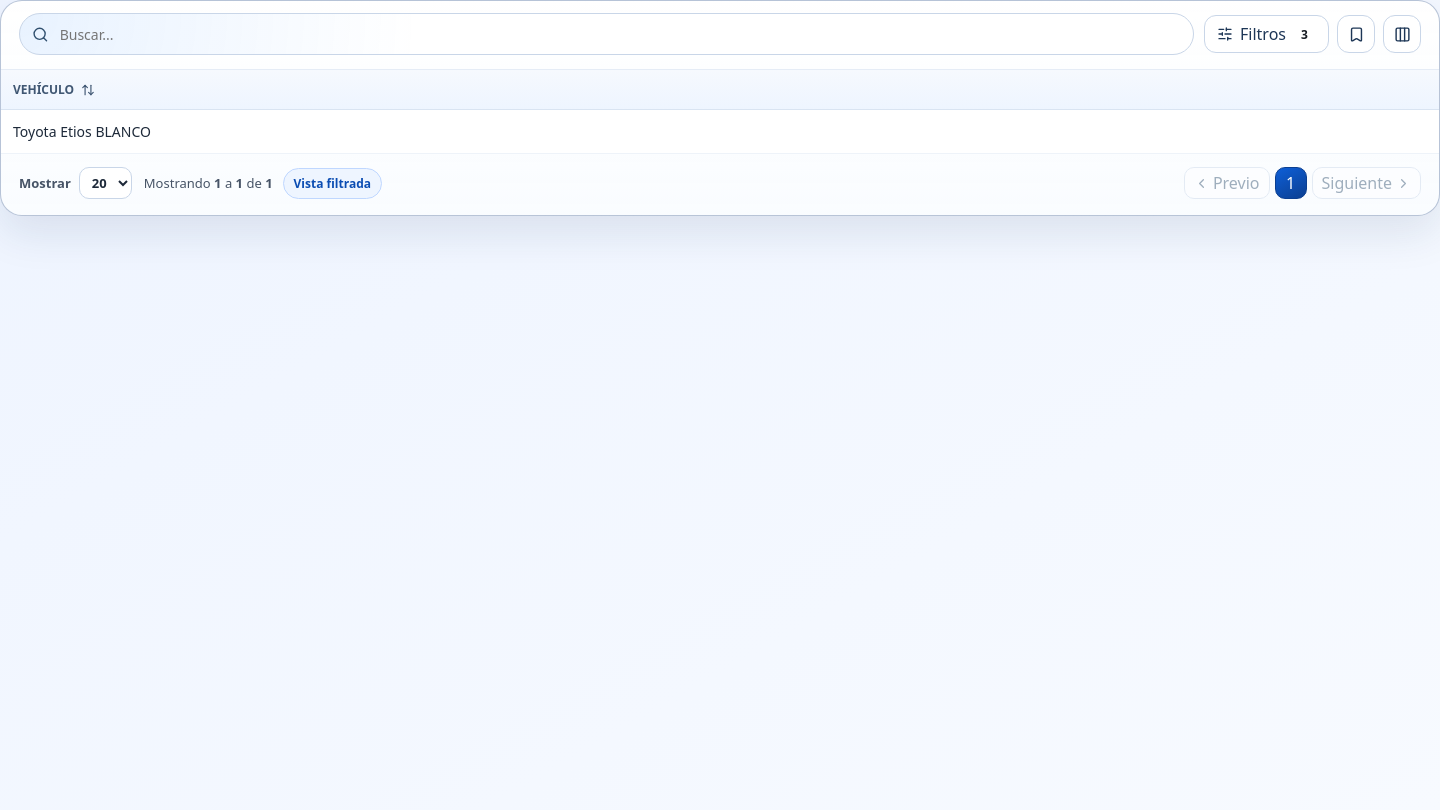
Test: conserva filtros independientes de marca, modelo y color en una sola columna
The width and height of the screenshot is (1440, 810).
Click the button with class "dt-filter-trigger": (1266, 34) [1204,15,1329,53]
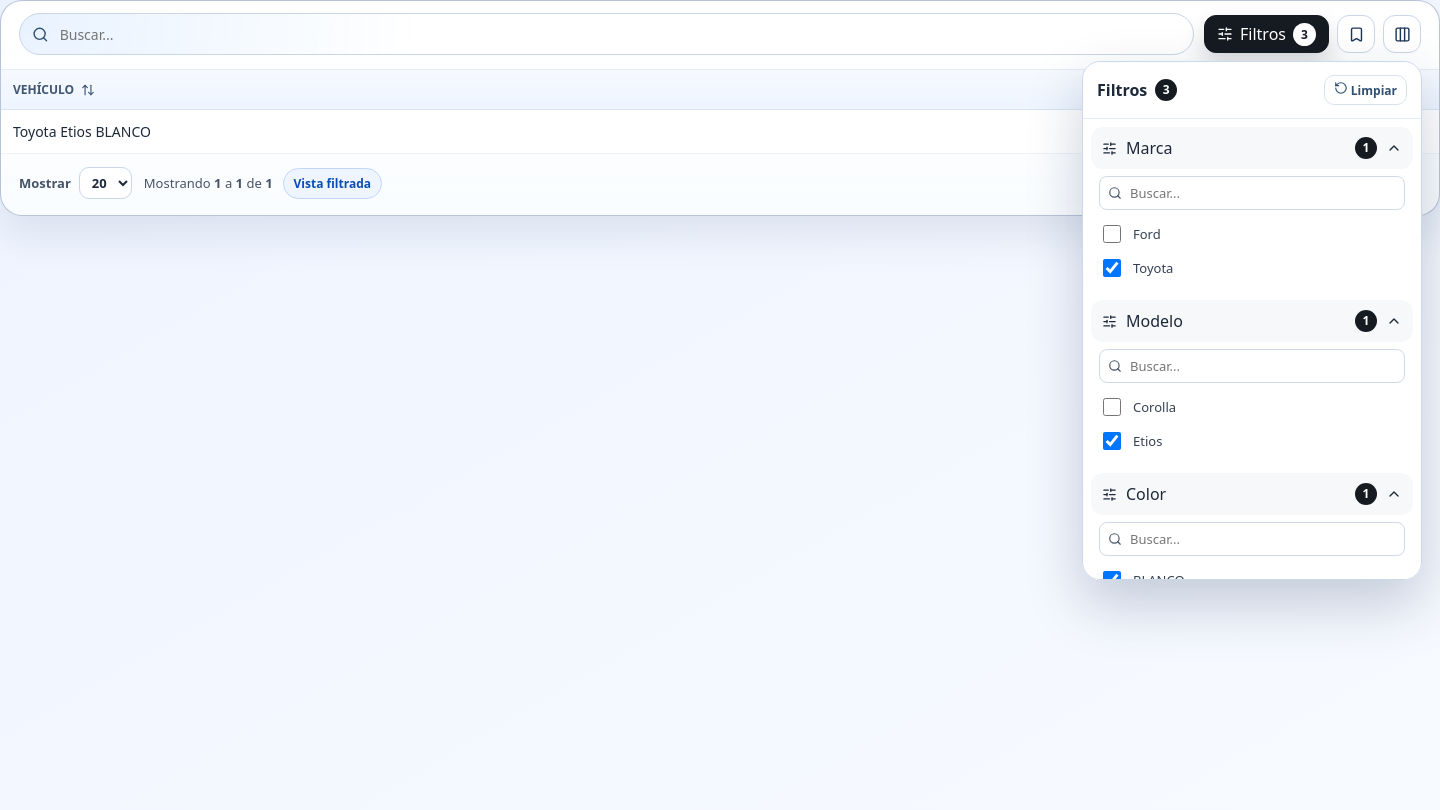
Now the element with class "dt-filter-panel" shows "Marca", box [1091,127,1413,169]
Now the element with class "dt-filter-panel" shows "Modelo", box [1091,300,1413,342]
Now the element with class "dt-filter-panel" shows "Color", box [1091,473,1413,515]
